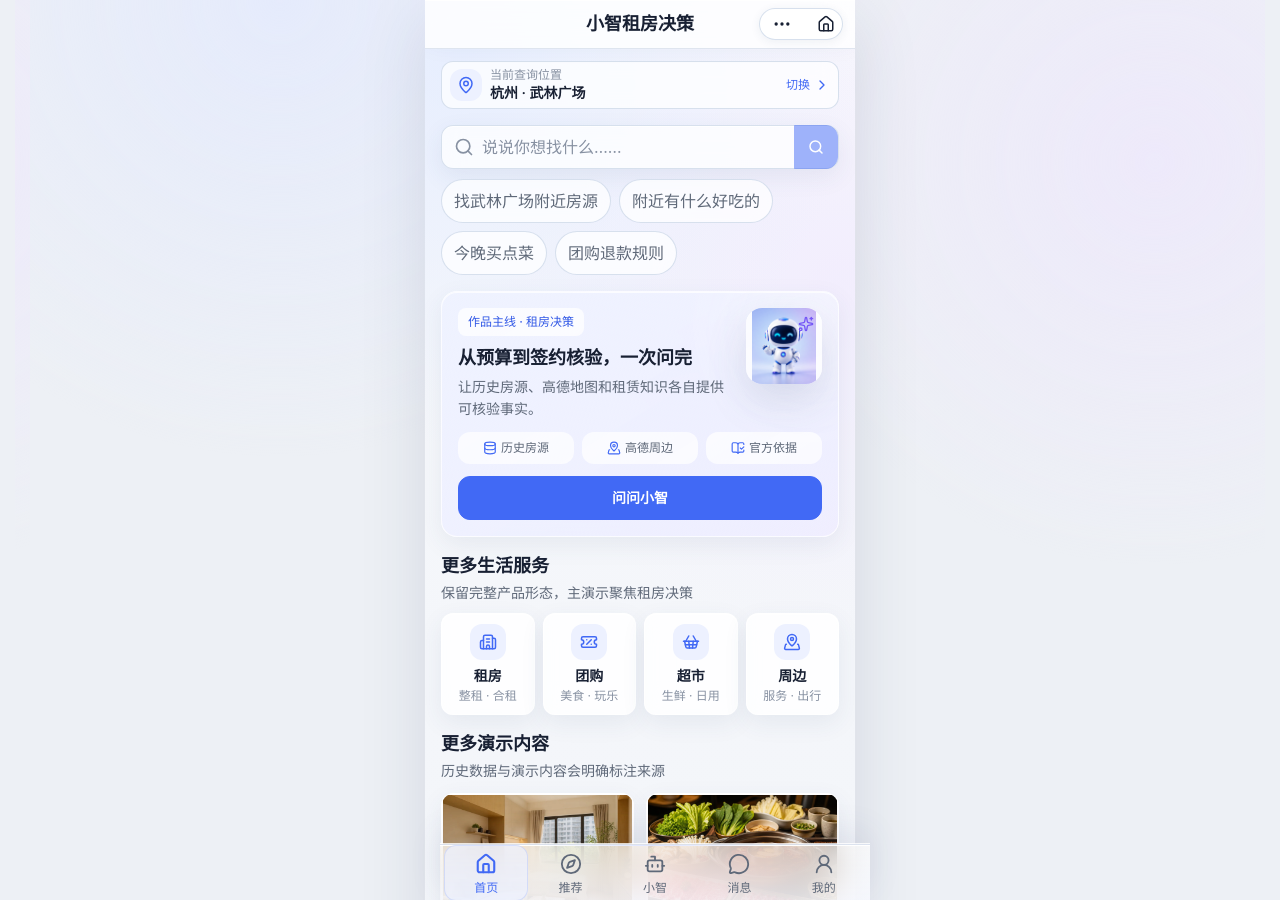
HomePage › opens an accessible location picker from the home location header
This screenshot has width=1280, height=900.
Click the button with aria-label "选择位置：杭州 · 武林广场" at [466, 85], box [441,61,839,109]
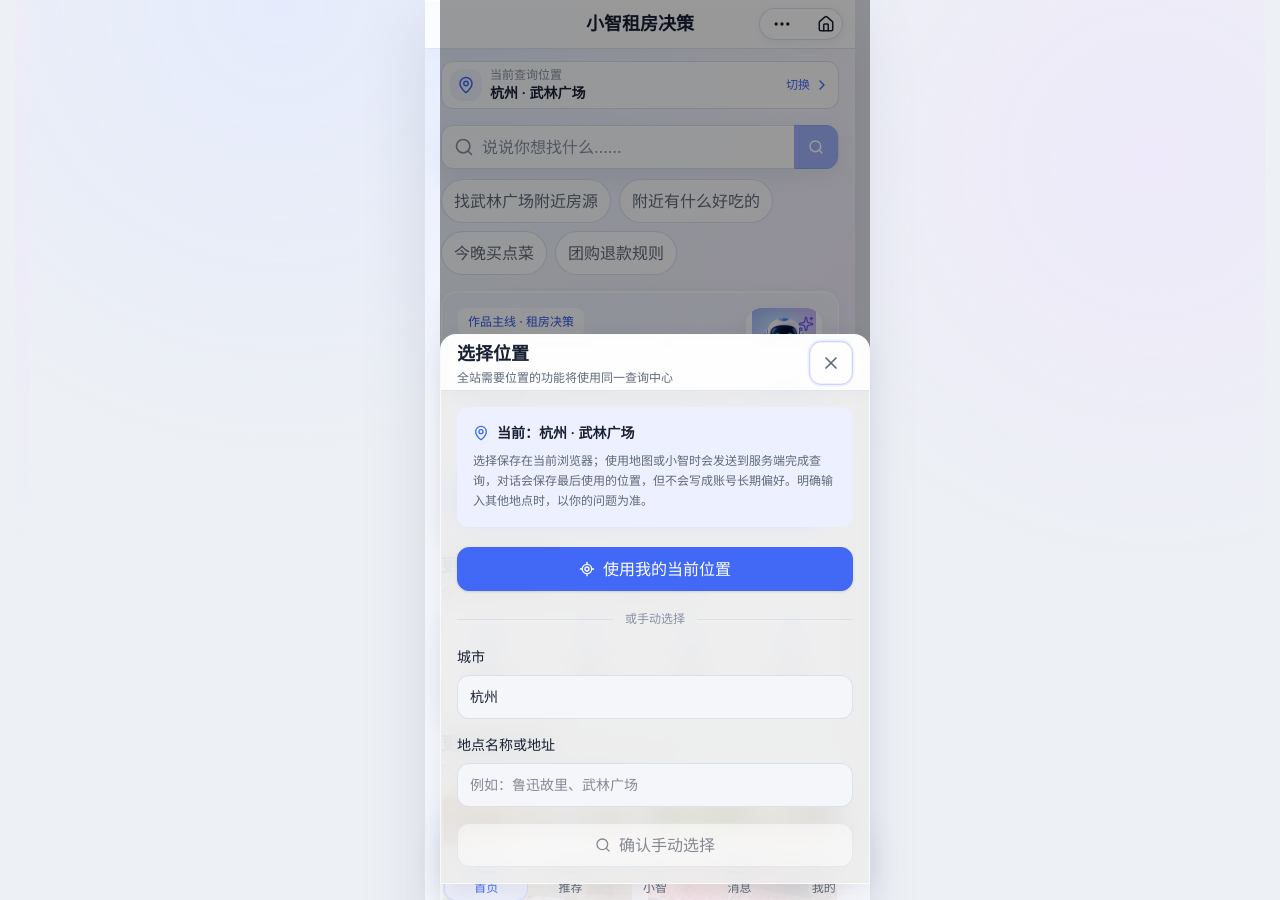
Now the dialog "选择位置" is shown, box [440,334,870,884]
Now the button "使用我的当前位置" is enabled, box [457,547,853,591]
Now the button "确认手动选择" is disabled, box [457,823,853,867]
Replace the text in the field labelled "城市" with "绍兴" at [655, 697], box [457,675,853,719]
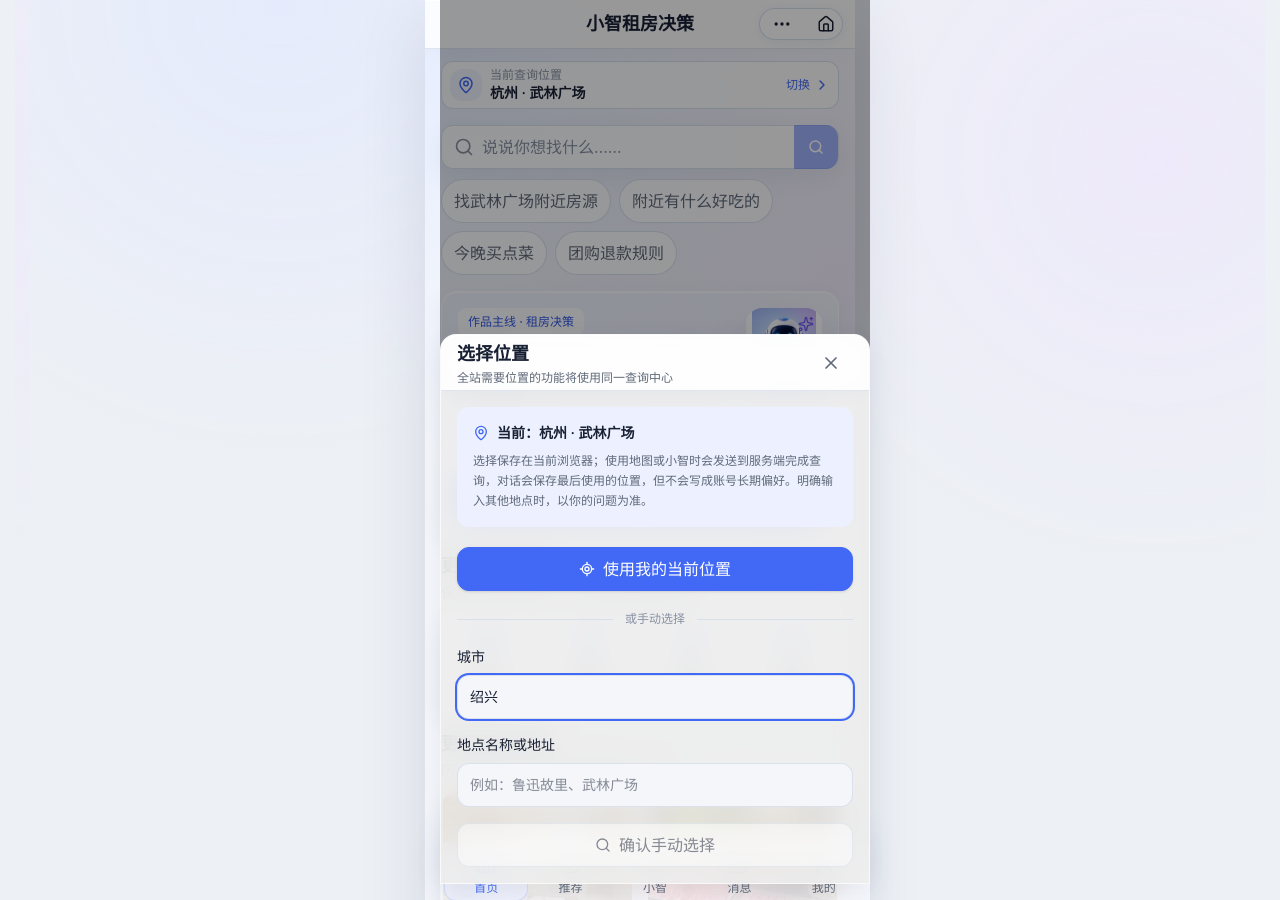
Type "鲁迅故里" into the field labelled "地点名称或地址" at [655, 785], box [457,763,853,807]
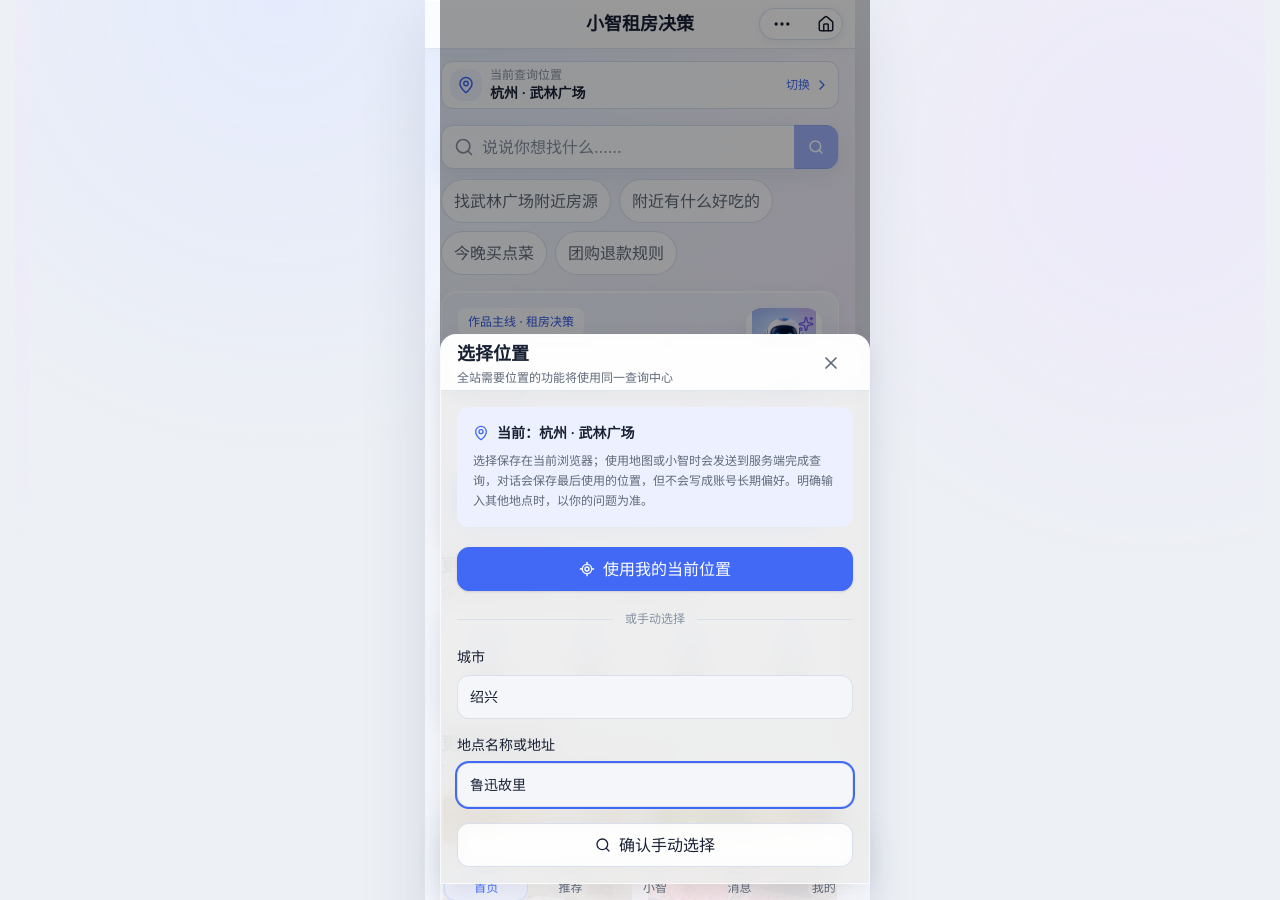
Now the text "选择保存在当前浏览器" is shown, box [473,453,833,508]
Now the button "确认手动选择" is enabled, box [457,823,853,867]
